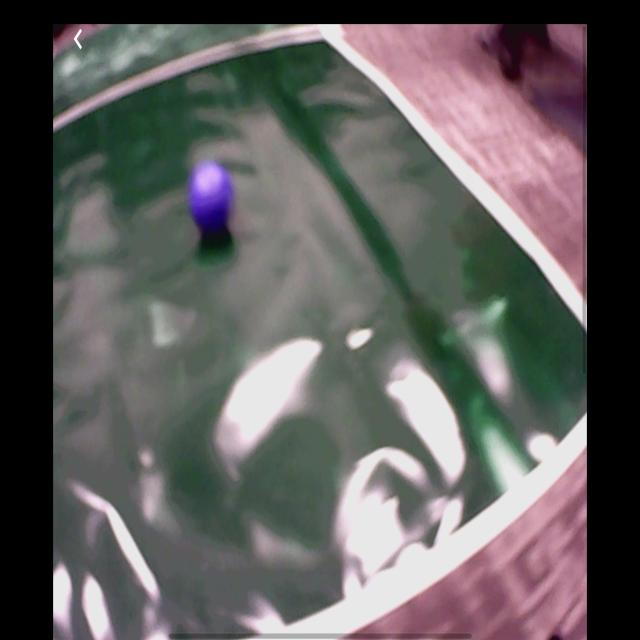ball: (189, 161, 235, 234)
